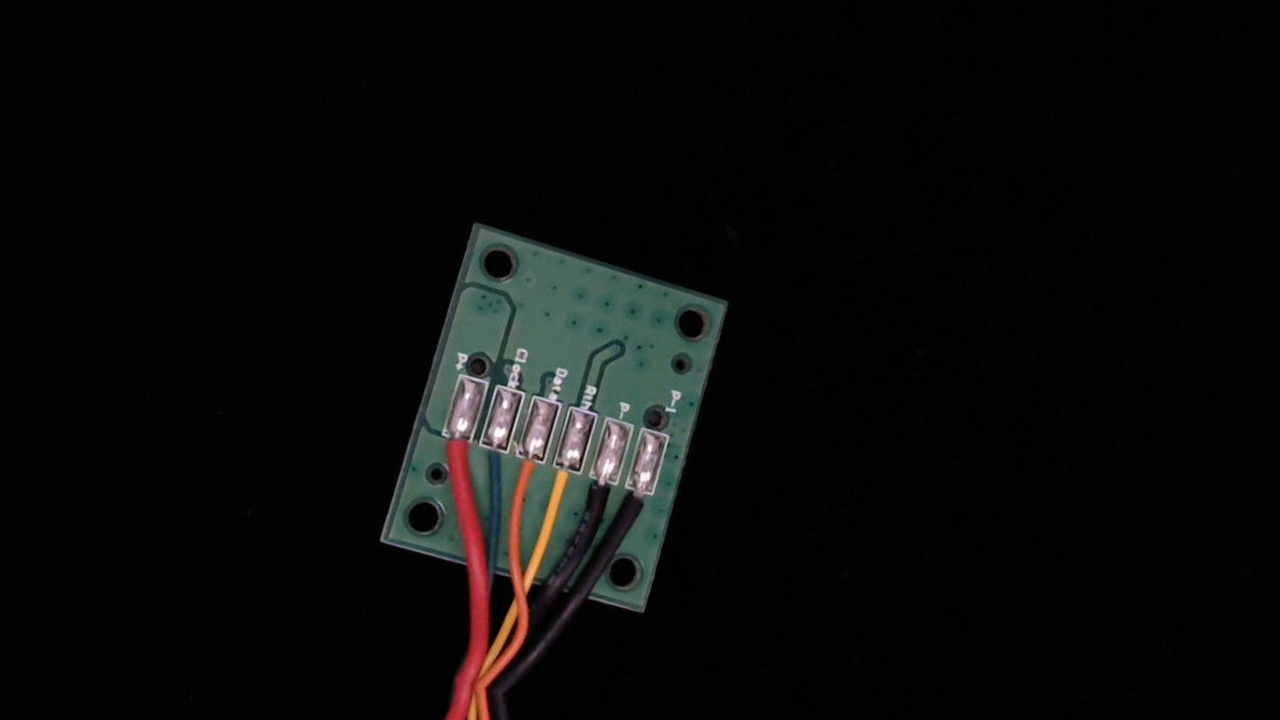Black: (570, 460, 624, 540)
Black1: (609, 472, 661, 547)
Green: (466, 426, 513, 494)
Orange: (498, 438, 551, 517)
Red: (423, 417, 476, 495)
Yellow: (531, 449, 586, 530)
